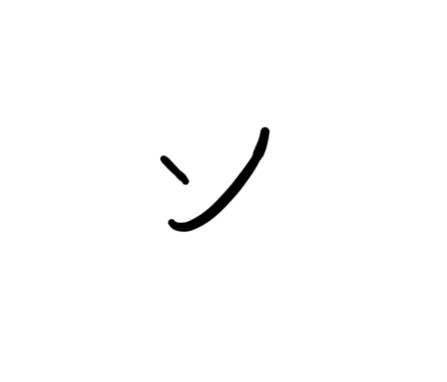n: (138, 123, 276, 238)
